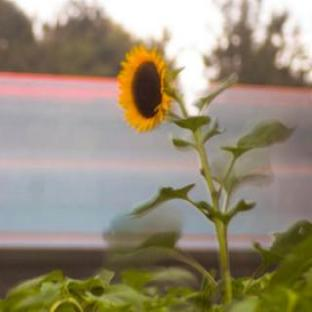sunflower: (118, 46, 172, 133)
